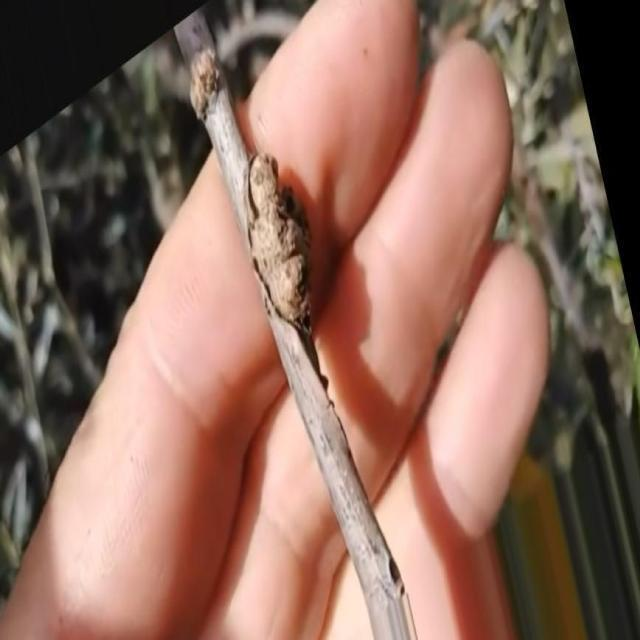Tuberculosis: (248, 154, 310, 338), (188, 48, 222, 126)
